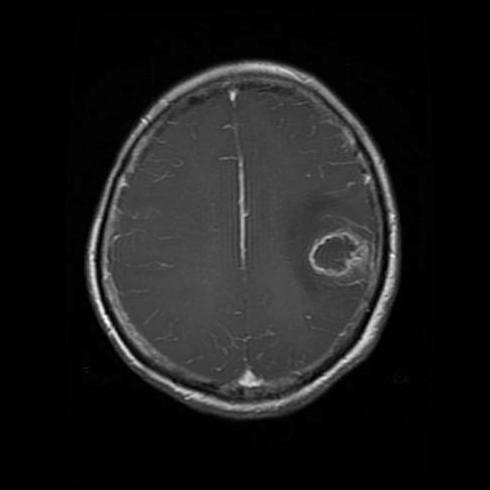Tumour-Glioma: (299, 213, 369, 300)
